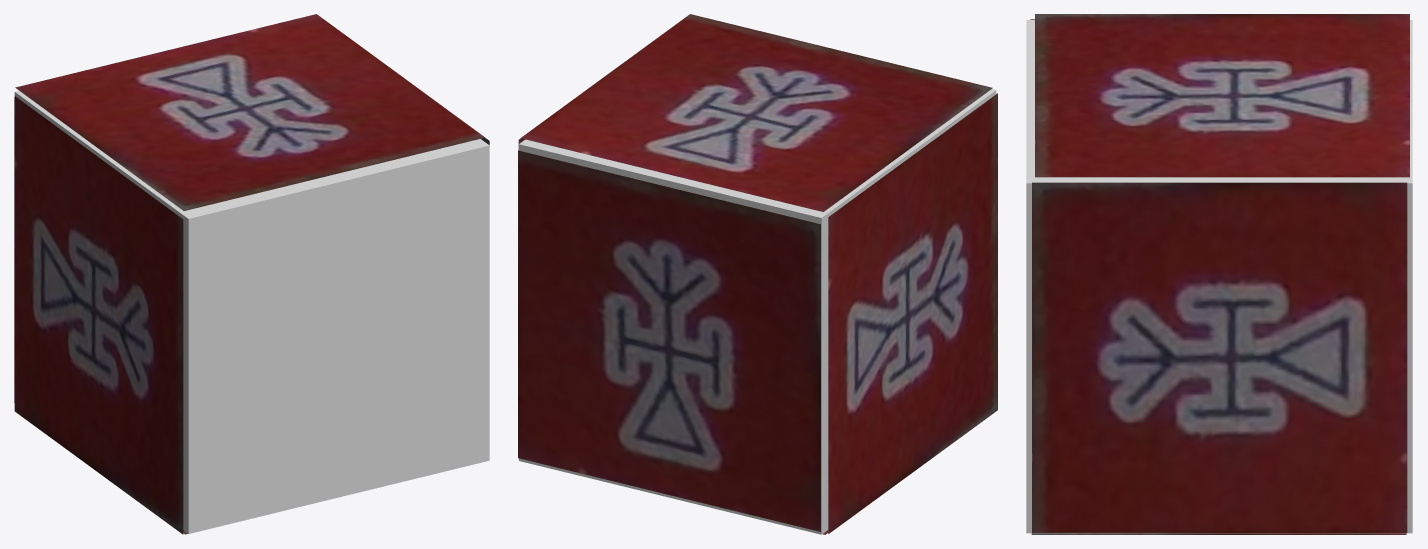
3 renders of one model, left to right at view 1: azimuth 30°, elevation 25°; view 2: azimuth 150°, elevation 25°; view 3: azimuth 270°, elevation 25°, orthographic. The views are drawn at different scales.
Visible parts, largest first — view 1: Link25, R1.002, R1.003; view 2: R1.005, R1.002, R1.003, Link25; view 3: R1.004, R1.003, Link25, R1.001.
Part boxes in pixels (x1,y1,x2,y2): Link25: (14,90,489,533); R1.002: (14,96,183,534); R1.003: (15,14,484,210); R1.005: (518,150,820,531); R1.002: (828,93,997,533); R1.003: (521,14,992,211); Link25: (519,89,996,534); R1.004: (1032,182,1407,532); R1.003: (1035,14,1409,177); Link25: (1026,20,1412,533); R1.001: (1031,533,1406,534).
Bounding box in the file's own units: 0.3569 × 0.3509 × 0.3578.
Materials: 1 (1 with a texture image).
